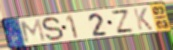1: (65, 14, 80, 40)
2: (86, 11, 110, 38)
K: (132, 7, 154, 31)
M: (19, 18, 47, 44)
S: (41, 16, 65, 43)
Z: (109, 9, 136, 35)
